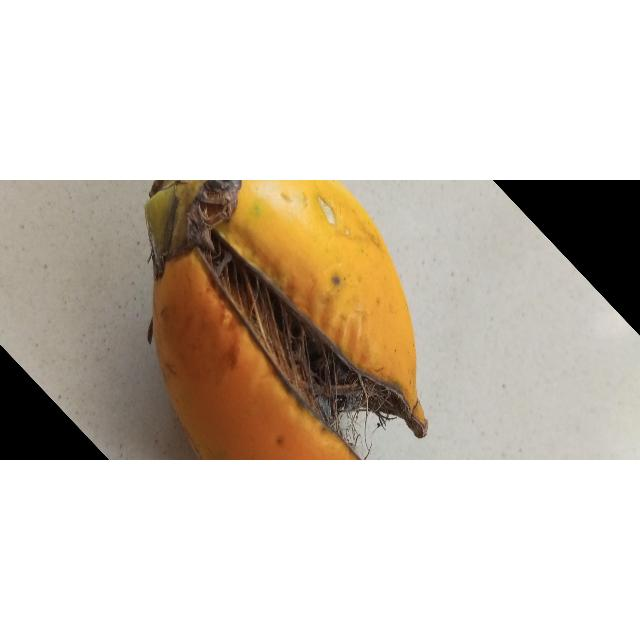damaged: (145, 180, 427, 461)
